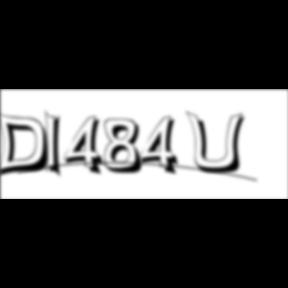4: (138, 115, 186, 179), (64, 115, 110, 179)
8: (104, 117, 150, 176)
D: (0, 110, 56, 180)
U: (186, 110, 252, 176)
l: (46, 108, 68, 182)
